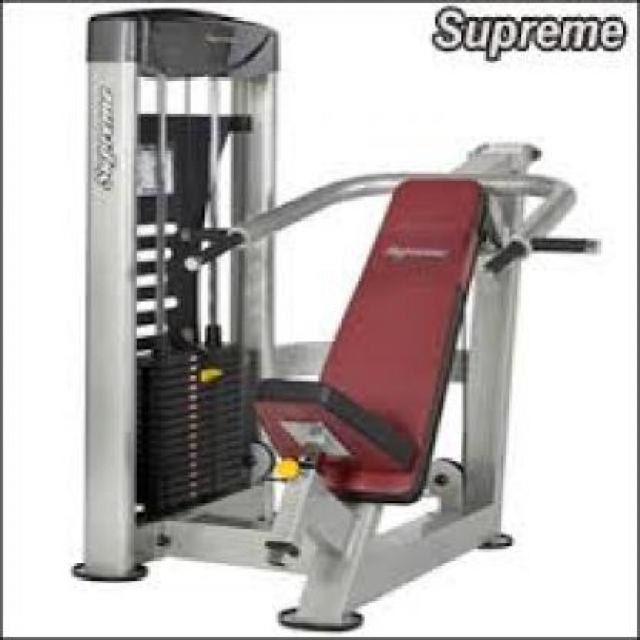shoulder press machine: (63, 5, 605, 632)
